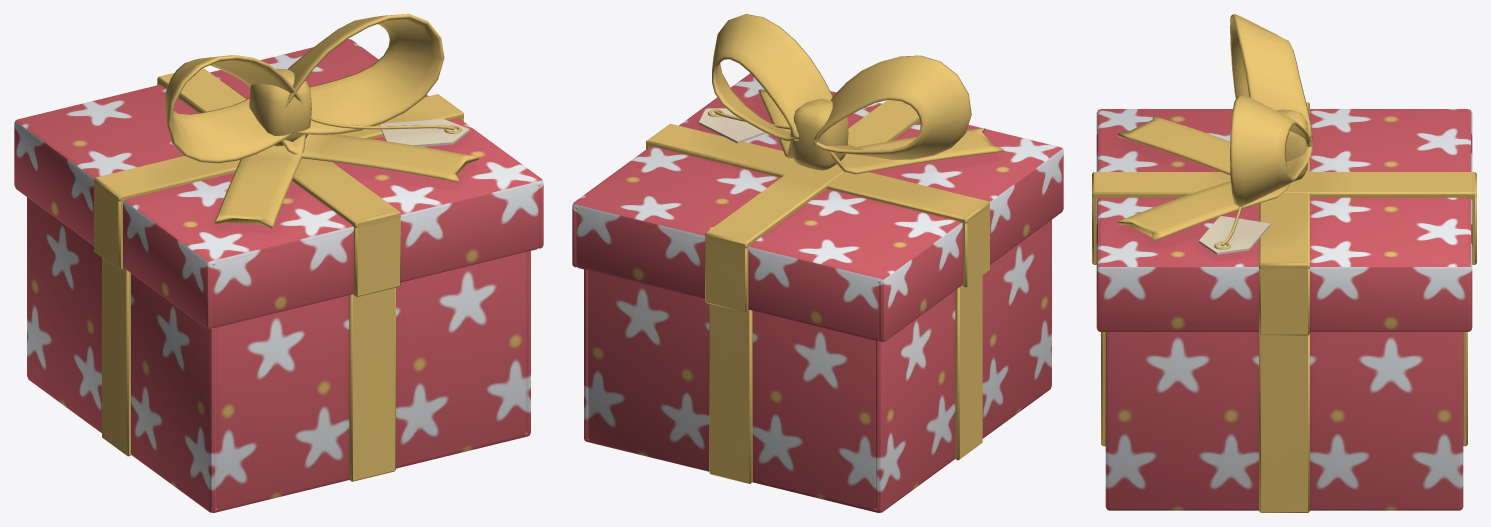
The model's file is gift-box.obj.
3 renders of one model, left to right at view 1: azimuth 30°, elevation 25°; view 2: azimuth 150°, elevation 25°; view 3: azimuth 270°, elevation 25°, orthographic. The views are drawn at different scales.
Parts seen in each view (by area): view 1: gift-box_lid, gift-box_body; view 2: gift-box_lid, gift-box_body; view 3: gift-box_lid, gift-box_body.
Boxes of the visible parts, x1,y1,x2,y2 form: gift-box_lid: (14, 14, 543, 328); gift-box_body: (27, 197, 530, 512); gift-box_lid: (572, 14, 1063, 341); gift-box_body: (584, 220, 1051, 512); gift-box_lid: (1092, 14, 1476, 335); gift-box_body: (1101, 332, 1467, 512).
Size of the model in its own units: 0.258 by 0.278 by 0.258.
2 materials, 2 textured.
